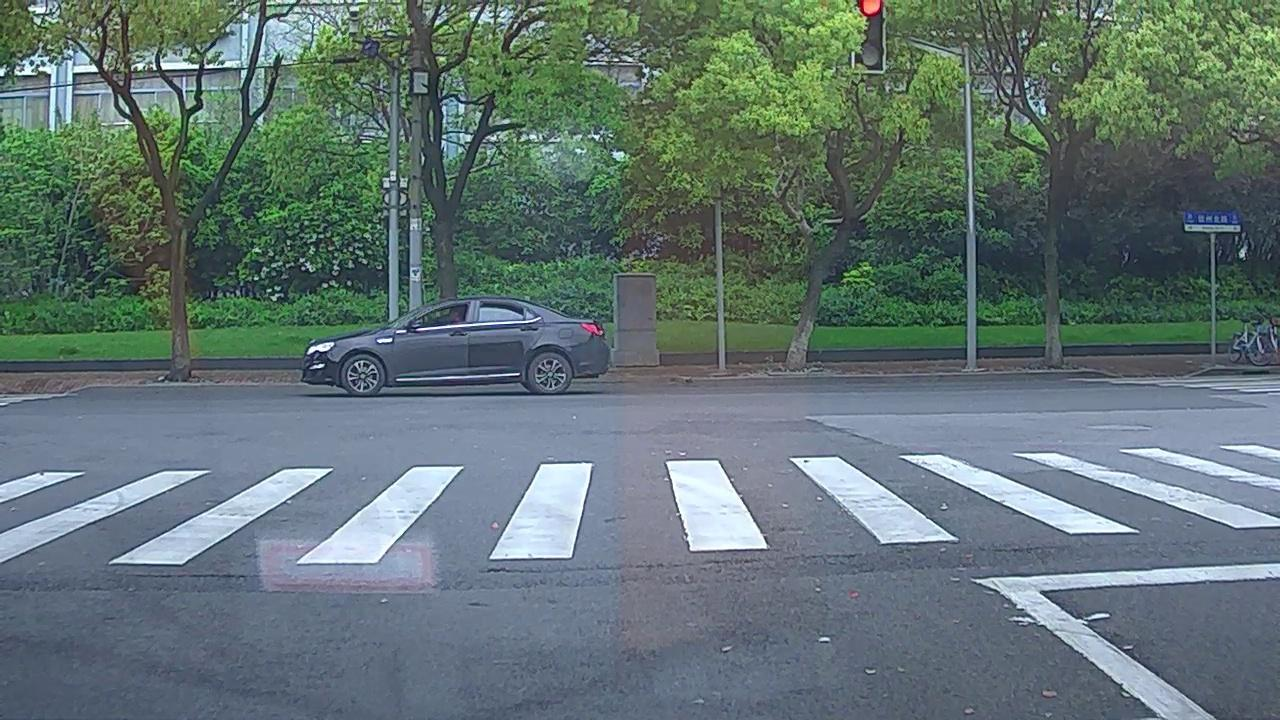traffic_light: (852, 1, 883, 72)
